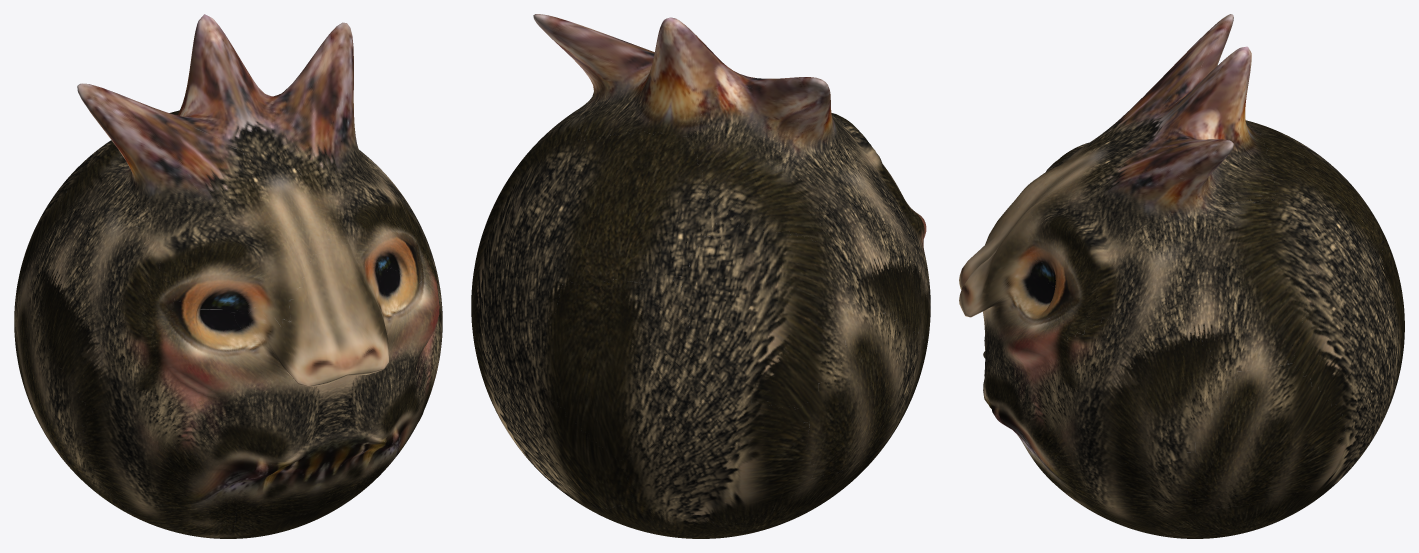
Rendered from GrossFace.fbx.
3 renders of one model, left to right at view 1: azimuth 30°, elevation 25°; view 2: azimuth 150°, elevation 25°; view 3: azimuth 270°, elevation 25°, orthographic. The views are drawn at different scales.
Parts seen in each view (by area): view 1: SculptShape; view 2: SculptShape; view 3: SculptShape.
Part boxes in pixels (left/top/right/bottom): SculptShape: left=14, top=14, right=442, bottom=538; SculptShape: left=471, top=14, right=930, bottom=538; SculptShape: left=959, top=14, right=1404, bottom=538.
Size of the model in its own units: 809 by 1010 by 860.
